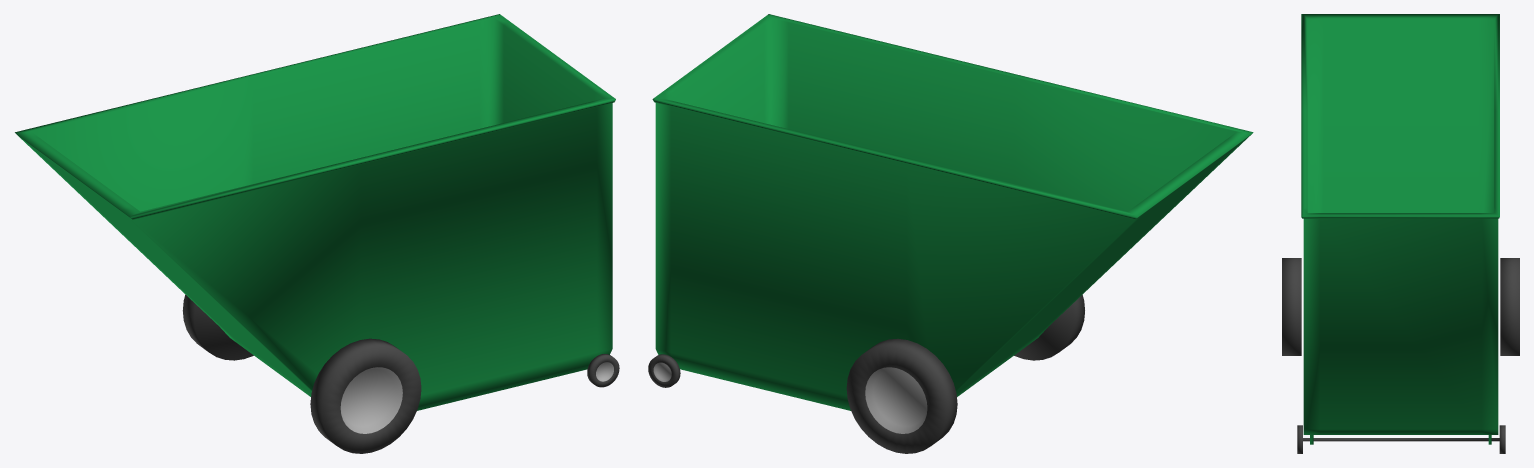
File: RollingGarbage.fbx
3 views of the same model, side by side, from view 1: azimuth 30°, elevation 25°; view 2: azimuth 150°, elevation 25°; view 3: azimuth 270°, elevation 25° (orthographic). The views are drawn at different scales.
Visible parts, largest first — view 1: RollingGarbage; view 2: RollingGarbage; view 3: RollingGarbage.
Boxes of the visible parts, bbox=[...] form: RollingGarbage: bbox=[15, 14, 619, 453]; RollingGarbage: bbox=[648, 14, 1253, 453]; RollingGarbage: bbox=[1282, 14, 1519, 453].
Size of the model in its own units: 138 by 76.57 by 68.29.
